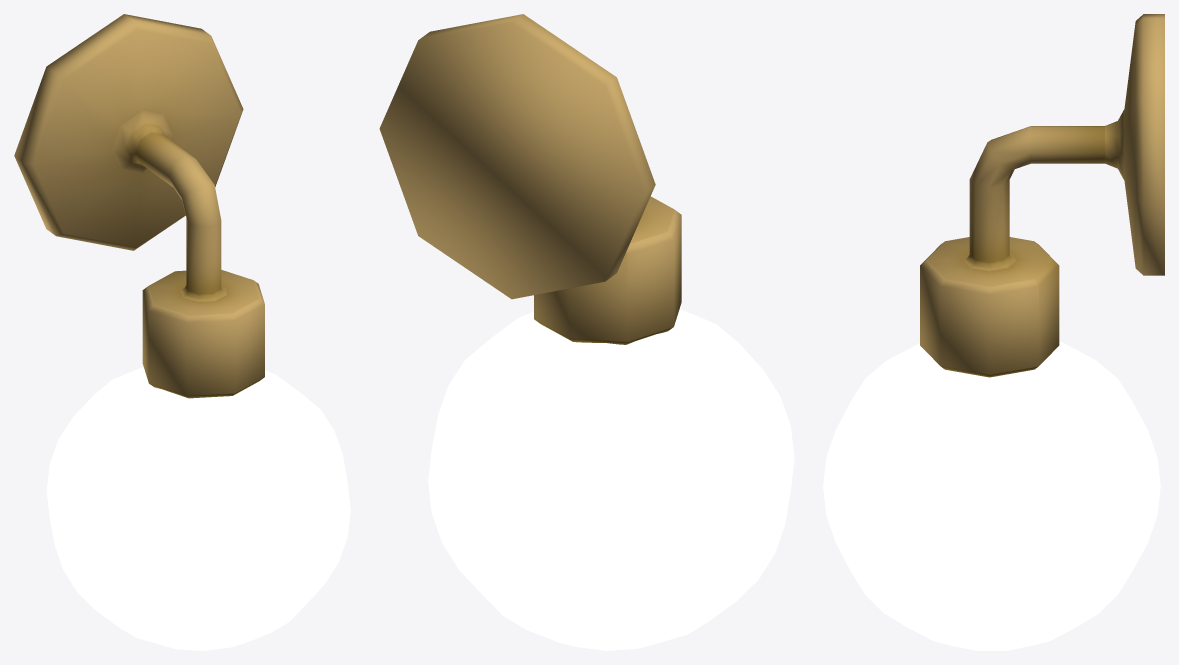
Rendered from low-poly_wall_light.glb.
The picture shows the model from 3 angles, left to right: view 1: azimuth 30°, elevation 25°; view 2: azimuth 150°, elevation 25°; view 3: azimuth 270°, elevation 25°; orthographic projection. The views are drawn at different scales.
Parts seen in each view (by area): view 1: Sphere, Circle; view 2: Sphere, Circle; view 3: Sphere, Circle.
Part boxes in pixels (x1=…): Sphere: x1=46, y1=367, x2=350, y2=650; Circle: x1=14, y1=14, x2=264, y2=398; Sphere: x1=428, y1=309, x2=794, y2=650; Circle: x1=379, y1=14, x2=681, y2=344; Sphere: x1=823, y1=341, x2=1160, y2=650; Circle: x1=920, y1=14, x2=1164, y2=377.
Bounding box in the file's own units: 2.92 × 6.03 × 3.03.
2 materials, 2 textured.
